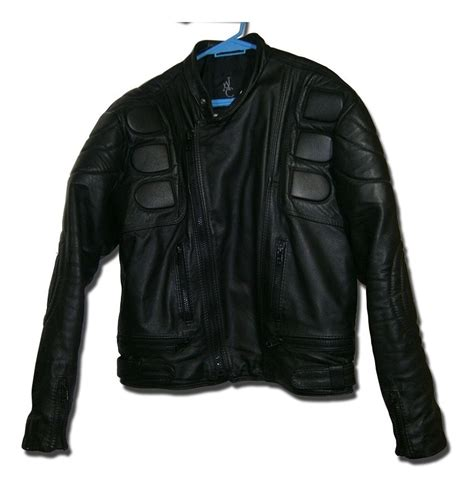cuero: (21, 32, 449, 462)
